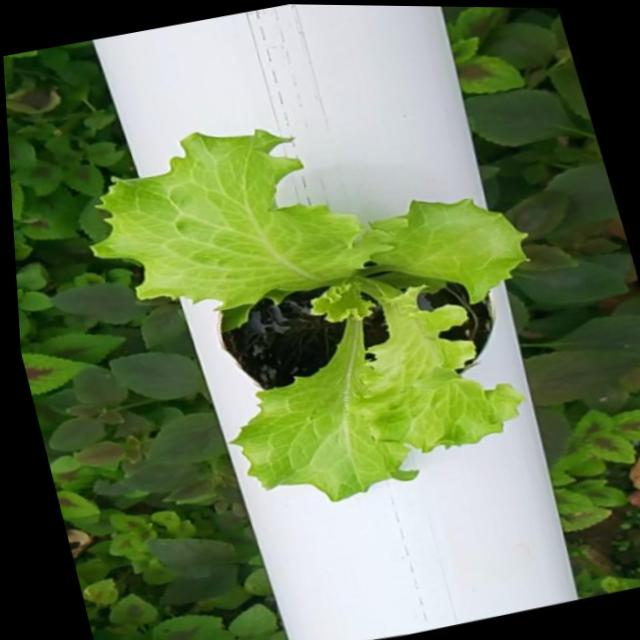Baby: (105, 132, 533, 496)
